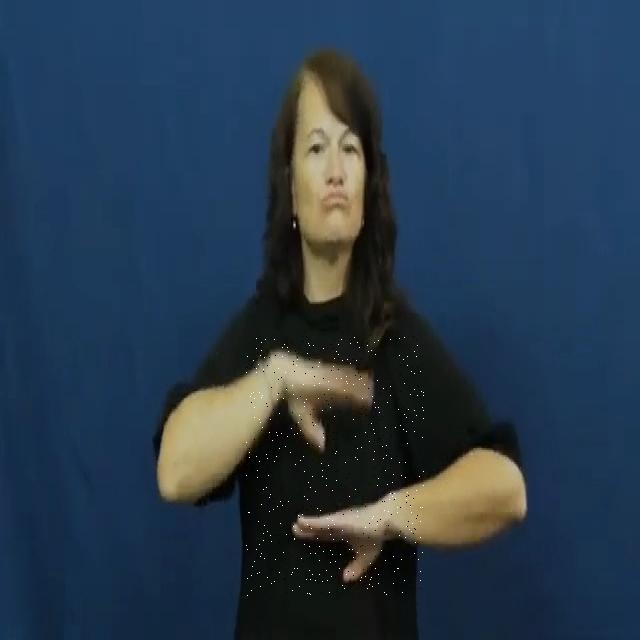enjoy: (246, 336, 424, 596)
